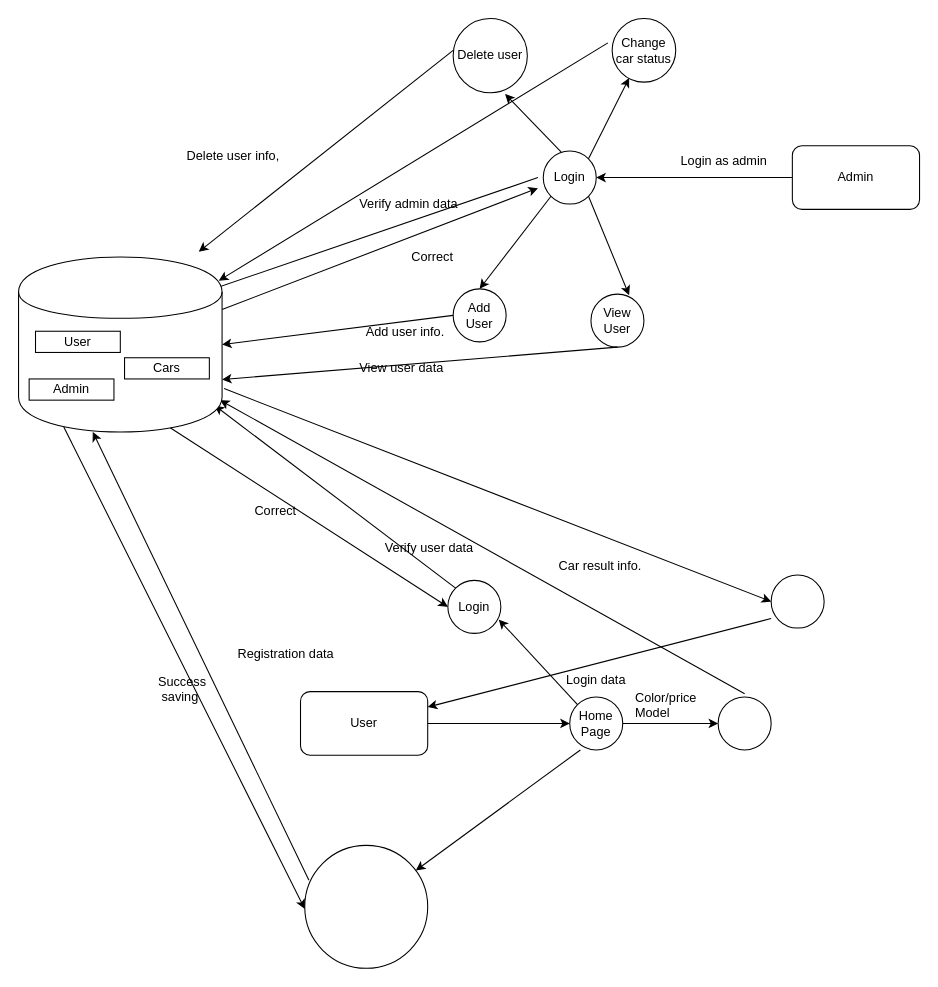
The diagram is 938 pixels wide and 987 high, and some of its shapes have lost their labels. Here are the shapes that lost their labels. From the top down, the box of each, then its label:
(770, 574, 824, 628): Car Result
(717, 696, 771, 750): Search
(304, 844, 428, 968): Regesteration
